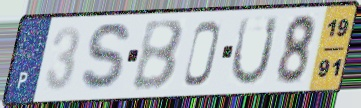0: (183, 19, 223, 88)
3: (44, 24, 85, 94)
8: (275, 13, 319, 87)
B: (130, 17, 186, 92)
S: (78, 20, 134, 95)
U: (228, 14, 281, 88)
